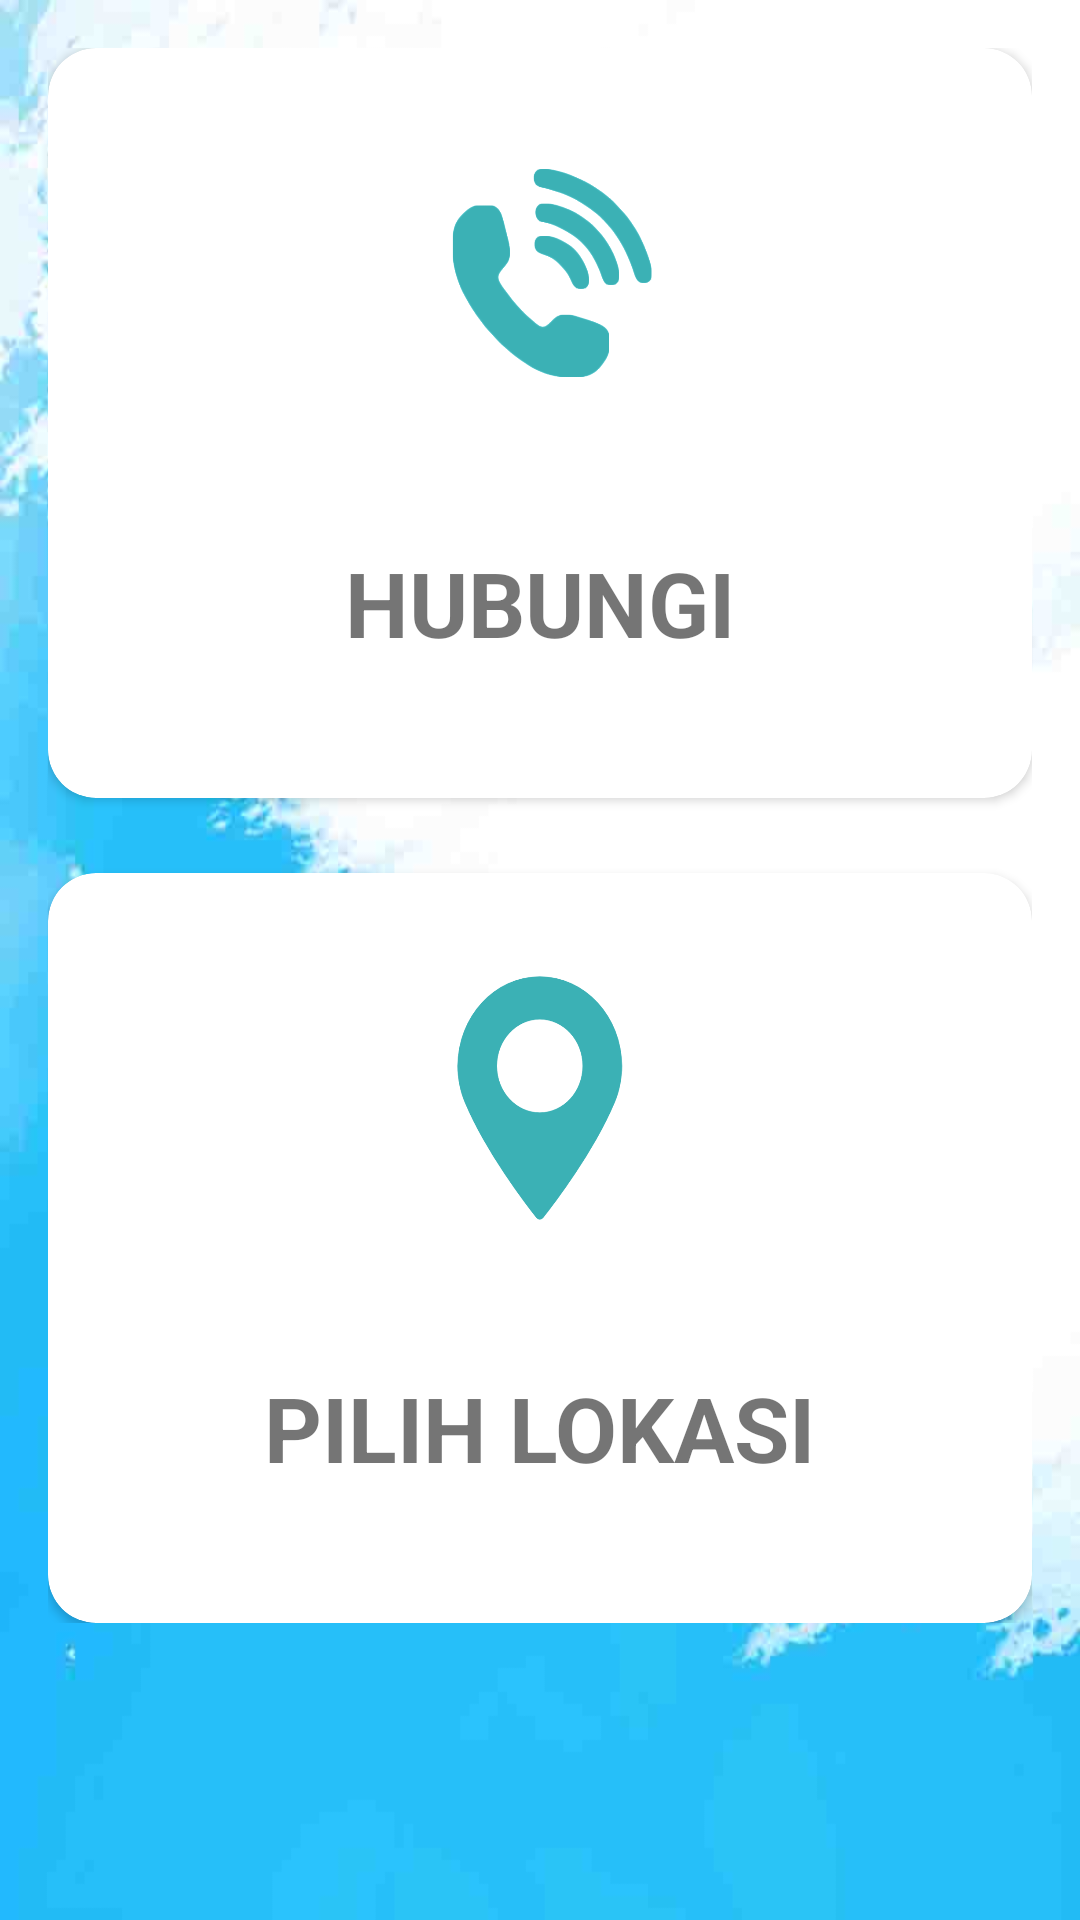

Where to tap for icons on this 1080×1920 app screen, as point (x, y):
telp: point (552, 273)
